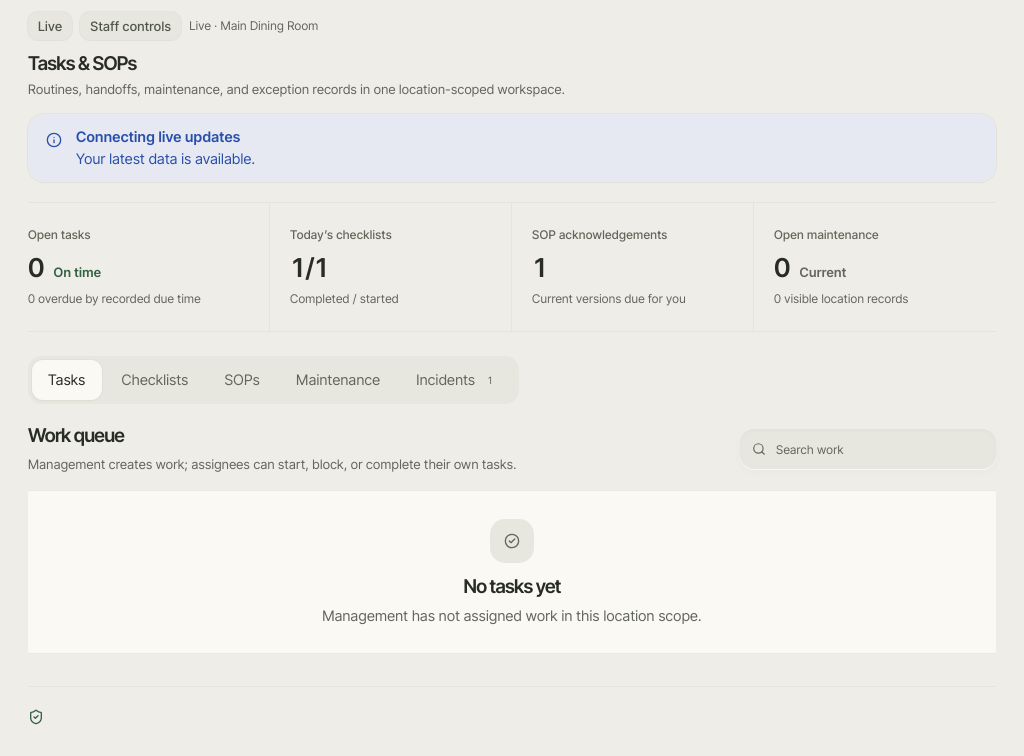
Test: connected Operations review interactions › shows immutable checklist evidence without enabling completion
Click the tab "Checklists" at (155, 380), box 106,360 -> 204,400
(page scrolled)
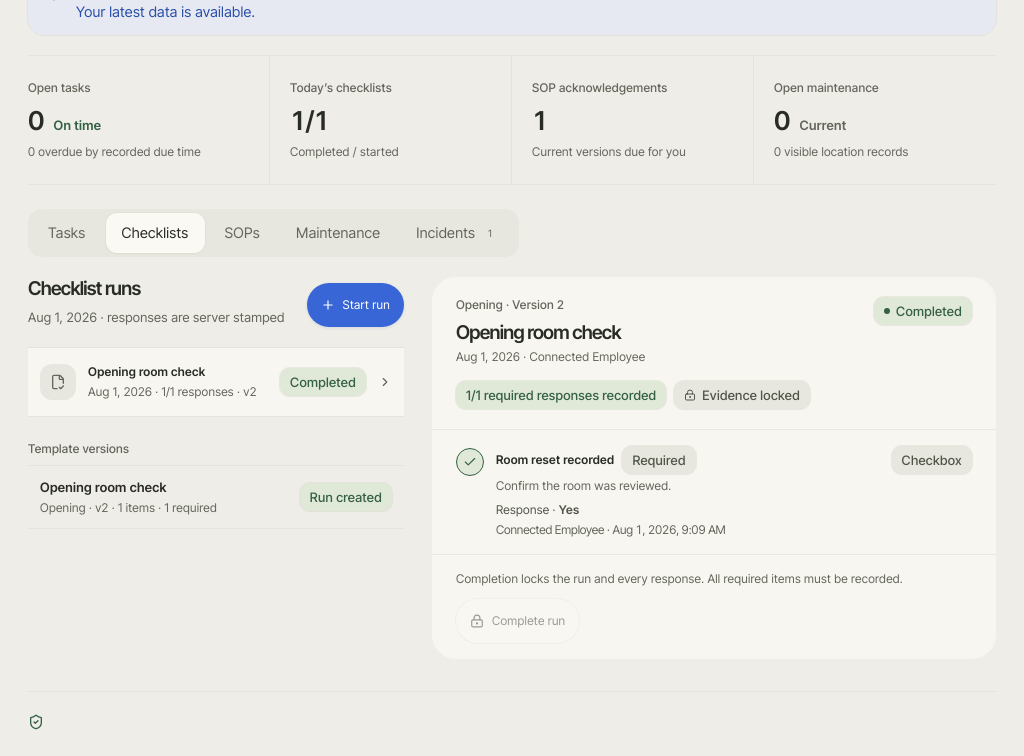
expect the 1st text "Opening room check" is shown: met, box 88,364 -> 206,379
expect the text "Response · Yes" is shown: met, box 496,502 -> 579,517
expect the text "Evidence locked" is shown: met, box 674,381 -> 810,409
